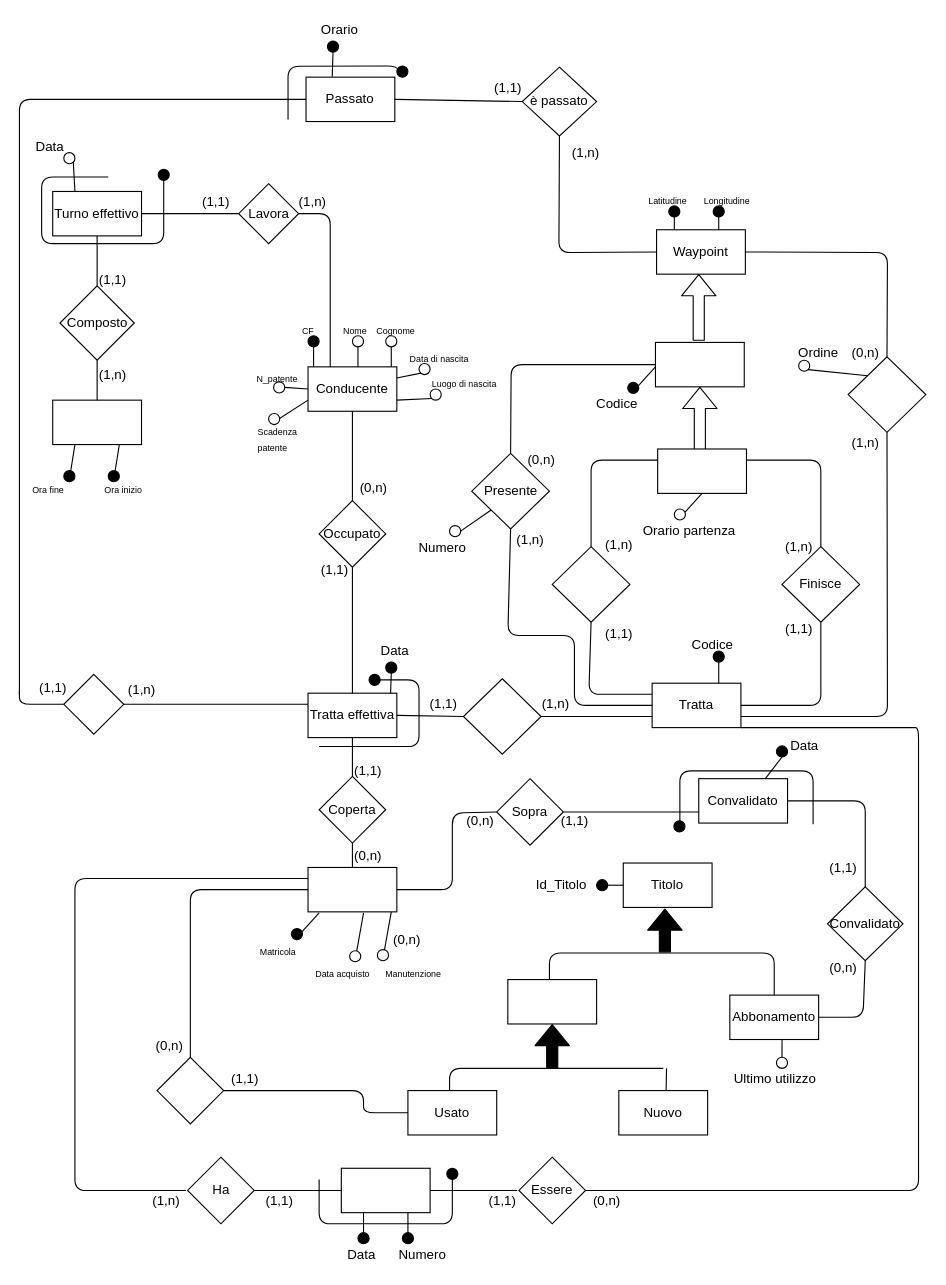
Image size: 946x1285. Some labels were removed from this diagram. The box of each missing label's shape, as (x1, y1, x2, y2) in pixels:
Biglietto: (507, 978, 597, 1024)
Capolinea: (657, 448, 746, 493)
Fermata: (654, 341, 744, 387)
In programma: (340, 1167, 430, 1213)
Inizia: (551, 546, 630, 622)
Occorrenza: (462, 678, 541, 754)
Passa: (63, 673, 124, 734)
Posizione: (847, 356, 926, 432)
Timbrato: (156, 1056, 224, 1124)
Turno: (52, 399, 142, 445)
Veicolo: (307, 866, 397, 912)
